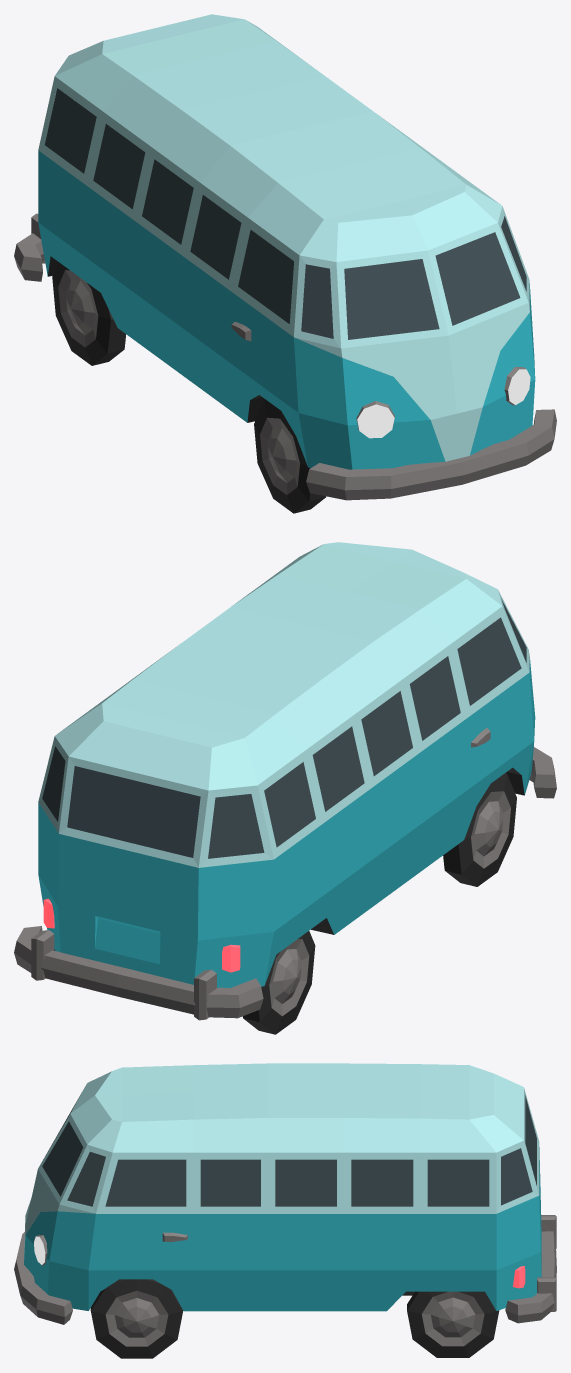
The model's file is vehicles_van.glb.
The picture shows the model from 3 angles, top to bottom: view 1: azimuth 30°, elevation 25°; view 2: azimuth 150°, elevation 25°; view 3: azimuth 270°, elevation 25°; orthographic projection. The views are drawn at different scales.
Parts seen in each view (by area): view 1: car-hippie-van-base, car-hippie-van-wheel_BR, car-hippie-van-wheel_FR; view 2: car-hippie-van-base, car-hippie-van-wheel_FR, car-hippie-van-wheel_BR; view 3: car-hippie-van-base, car-hippie-van-wheel_FL, car-hippie-van-wheel_BL.
Part boxes in pixels (box(x1,y1,x2,y2)): car-hippie-van-base: box(14, 14, 556, 500); car-hippie-van-wheel_BR: box(52, 262, 125, 365); car-hippie-van-wheel_FR: box(254, 399, 326, 513); car-hippie-van-base: box(14, 542, 556, 1020); car-hippie-van-wheel_FR: box(443, 773, 516, 886); car-hippie-van-wheel_BR: box(242, 931, 315, 1034); car-hippie-van-base: box(14, 1063, 556, 1324); car-hippie-van-wheel_FL: box(90, 1279, 183, 1358); car-hippie-van-wheel_BL: box(407, 1291, 499, 1357).
Size of the model in its own units: 1.83 by 2.03 by 4.38.
